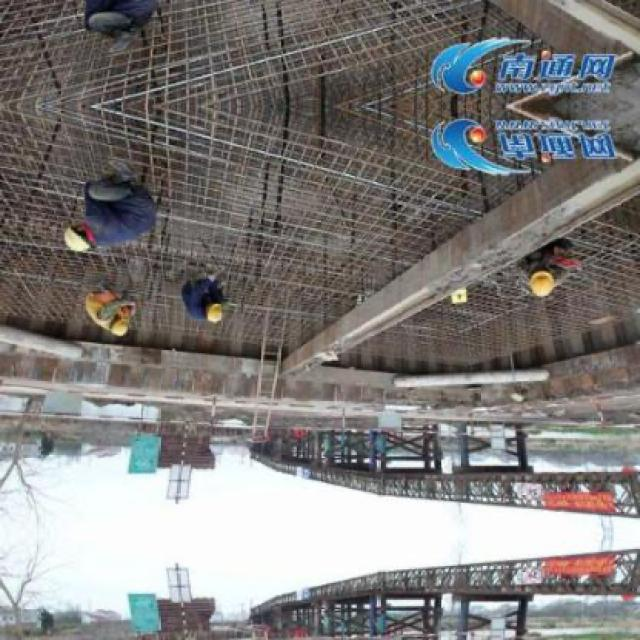con casco: (530, 249, 596, 306), (195, 279, 252, 325), (59, 224, 102, 268)
